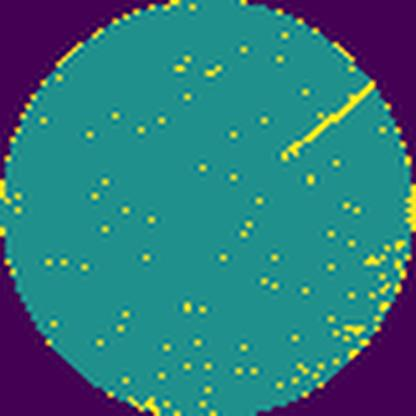Scratch: (274, 80, 379, 162)
